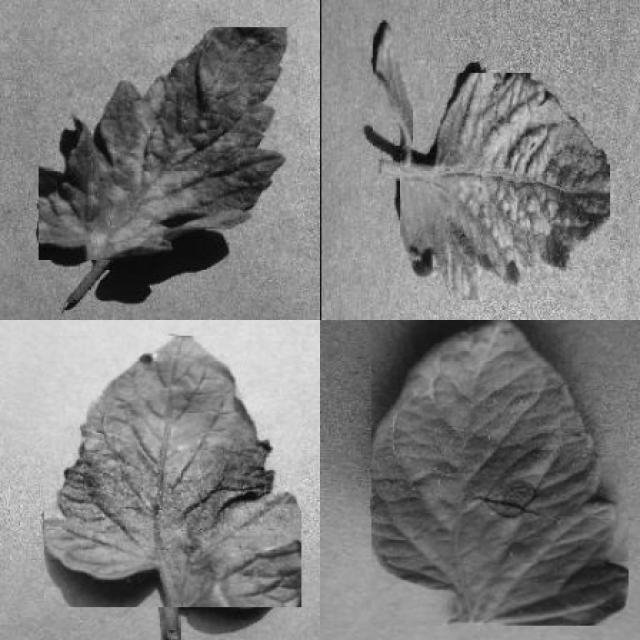Early Blight: (372, 321, 628, 626)
Late Blight: (45, 336, 302, 608)
Leaf Mold: (39, 27, 297, 260)
Mosaic Virus: (400, 73, 610, 300), (374, 23, 414, 146)
